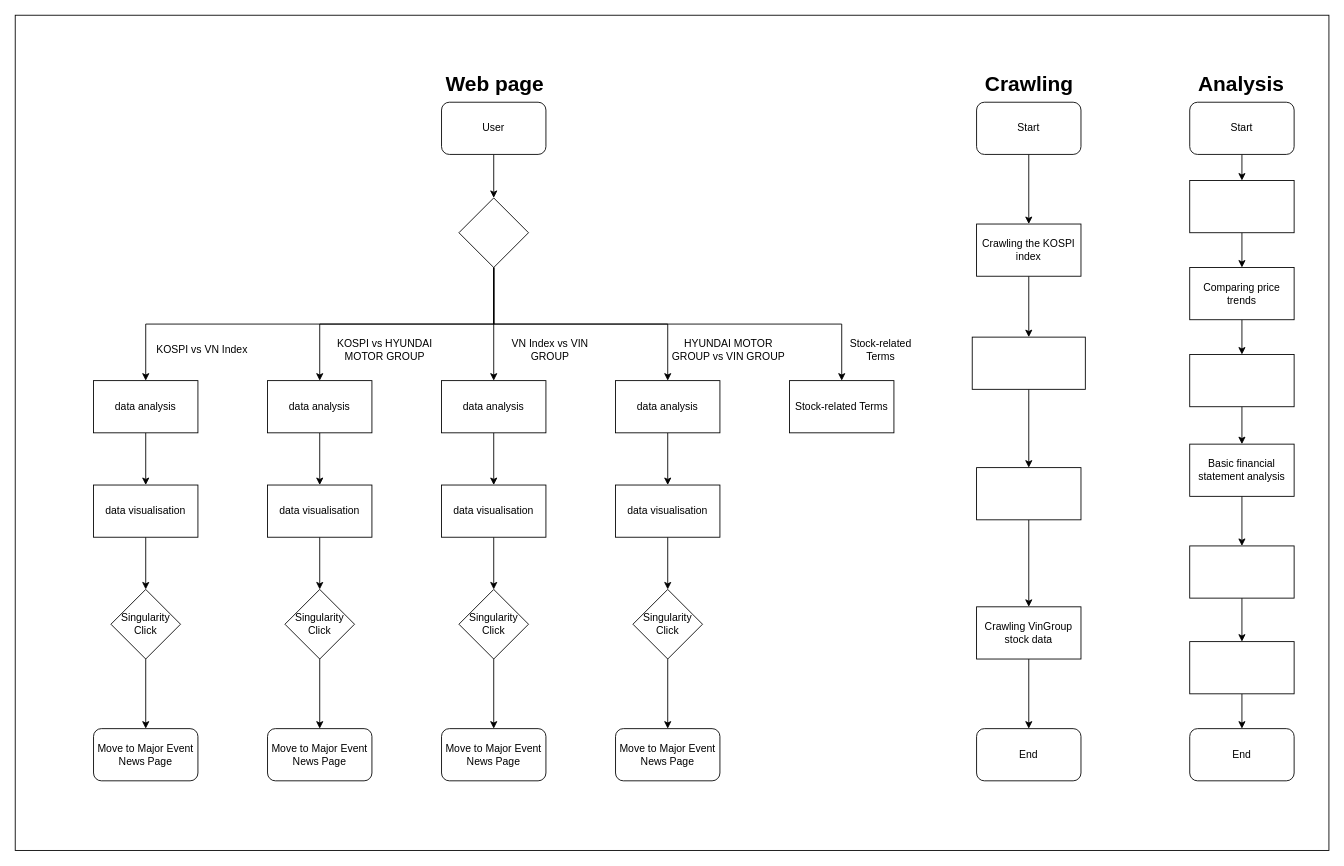
Image size: 1344x866. Some labels were removed from this diagram. Here are the shapes that lost their labels. From the top down, the centre of each, then its label:
the point at 1241,206: Preprocessing collected data
the point at 493,232: Select menu
the point at 1028,362: Crawling the VN Index
the point at 1241,380: Comparison of volatility and return rate
the point at 1028,493: Crawling Hyundai Motor Company stock data
the point at 1241,571: Technical analysis
the point at 1241,667: Comparing value indicators
